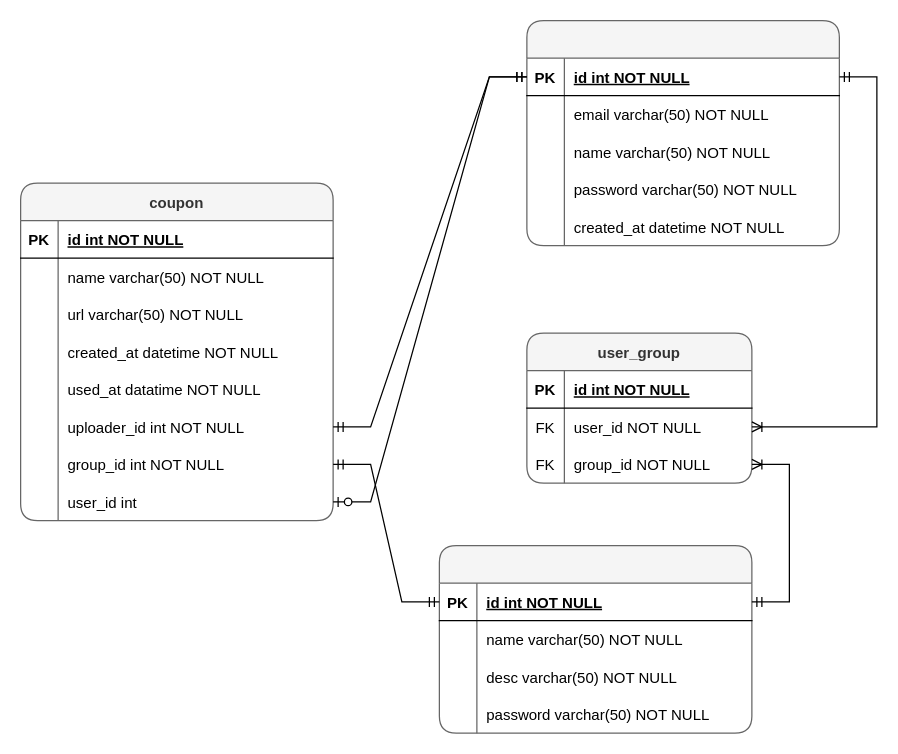
Image size: 898x754. Some labels were removed from this diagram. Here are the shapes that lost their labels. From the top down, the box of each, then its label:
(526, 19, 839, 246): user
(438, 544, 752, 733): group
